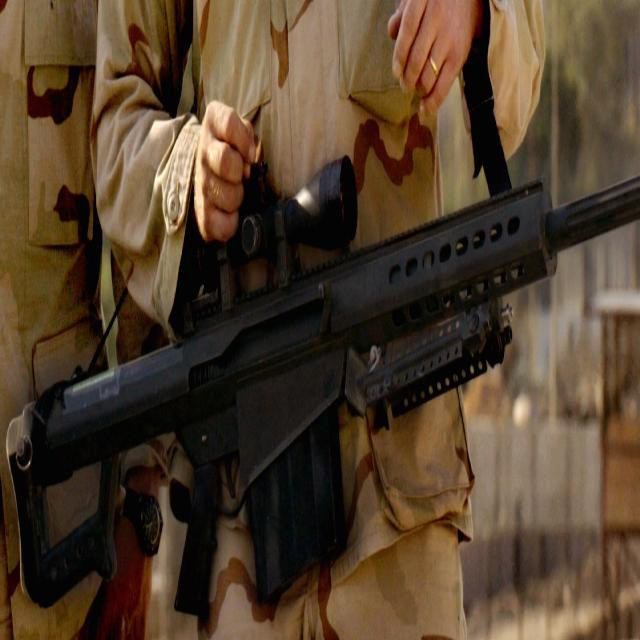Rifle: (5, 159, 640, 621)
